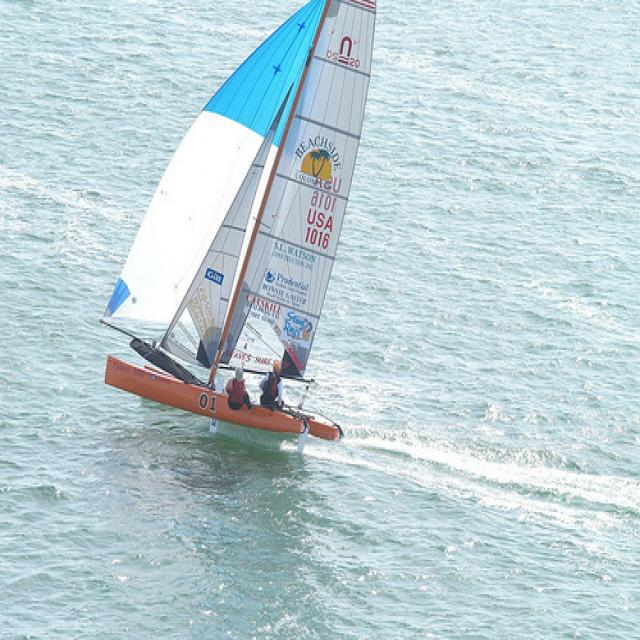Ship: (114, 2, 377, 448)
